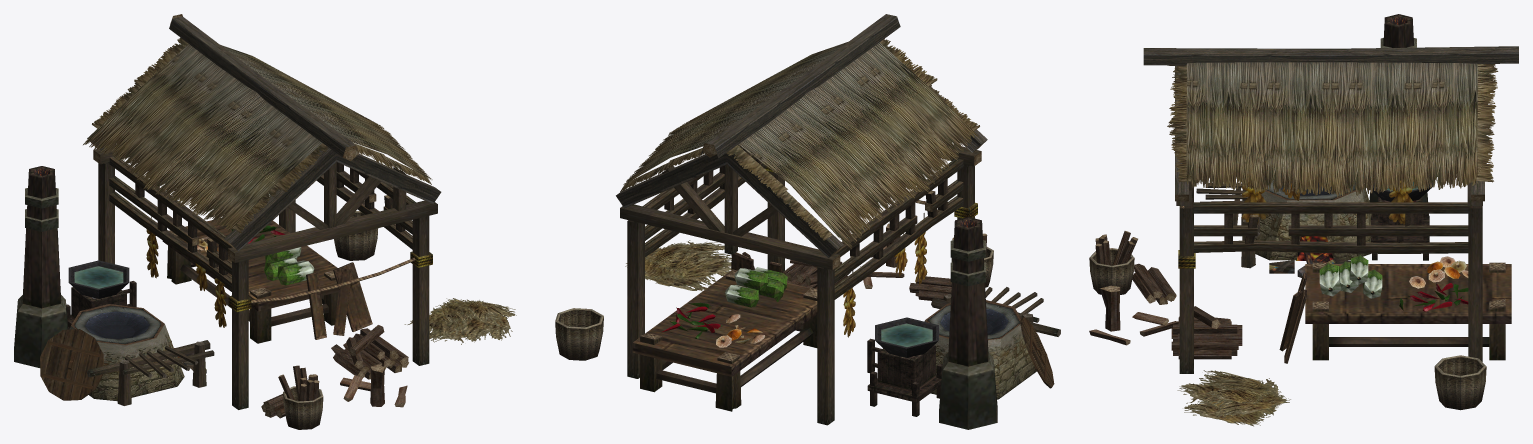
Rendered from JJS_QY_ChuFang.FBX.
3 views of the same model, side by side, from view 1: azimuth 30°, elevation 25°; view 2: azimuth 150°, elevation 25°; view 3: azimuth 270°, elevation 25° (orthographic). The views are drawn at different scales.
Visible parts, largest first — view 1: JJS_QY_ChuFang, JJS_QY_ChuFangDing, JJS_QY_ZaoTai, JJS_QY_AnBan, JJS_QY_ShuCai; view 2: JJS_QY_ChuFang, JJS_QY_ChuFangDing, JJS_QY_ZaoTai, JJS_QY_AnBan, JJS_QY_ShuCai; view 3: JJS_QY_ChuFangDing, JJS_QY_ChuFang, JJS_QY_AnBan, JJS_QY_ZaoTai, JJS_QY_ShuCai.
Boxes of the visible parts, x1=… form: JJS_QY_ChuFang: x1=87, y1=14, x2=516, y2=429; JJS_QY_ChuFangDing: x1=83, y1=37, x2=432, y2=232; JJS_QY_ZaoTai: x1=14, y1=166, x2=214, y2=405; JJS_QY_AnBan: x1=162, y1=218, x2=372, y2=343; JJS_QY_ShuCai: x1=197, y1=225, x2=314, y2=285; JJS_QY_ChuFang: x1=555, y1=14, x2=993, y2=425; JJS_QY_ChuFangDing: x1=620, y1=38, x2=979, y2=249; JJS_QY_ZaoTai: x1=867, y1=217, x2=1060, y2=429; JJS_QY_AnBan: x1=632, y1=252, x2=817, y2=411; JJS_QY_ShuCai: x1=661, y1=267, x2=787, y2=347; JJS_QY_ChuFangDing: x1=1167, y1=62, x2=1498, y2=197; JJS_QY_ChuFang: x1=1089, y1=46, x2=1518, y2=426; JJS_QY_AnBan: x1=1279, y1=262, x2=1511, y2=363; JJS_QY_ZaoTai: x1=1196, y1=14, x2=1433, y2=277; JJS_QY_ShuCai: x1=1319, y1=255, x2=1468, y2=311.
Bounding box in the file's own units: 811 × 448 × 628.
